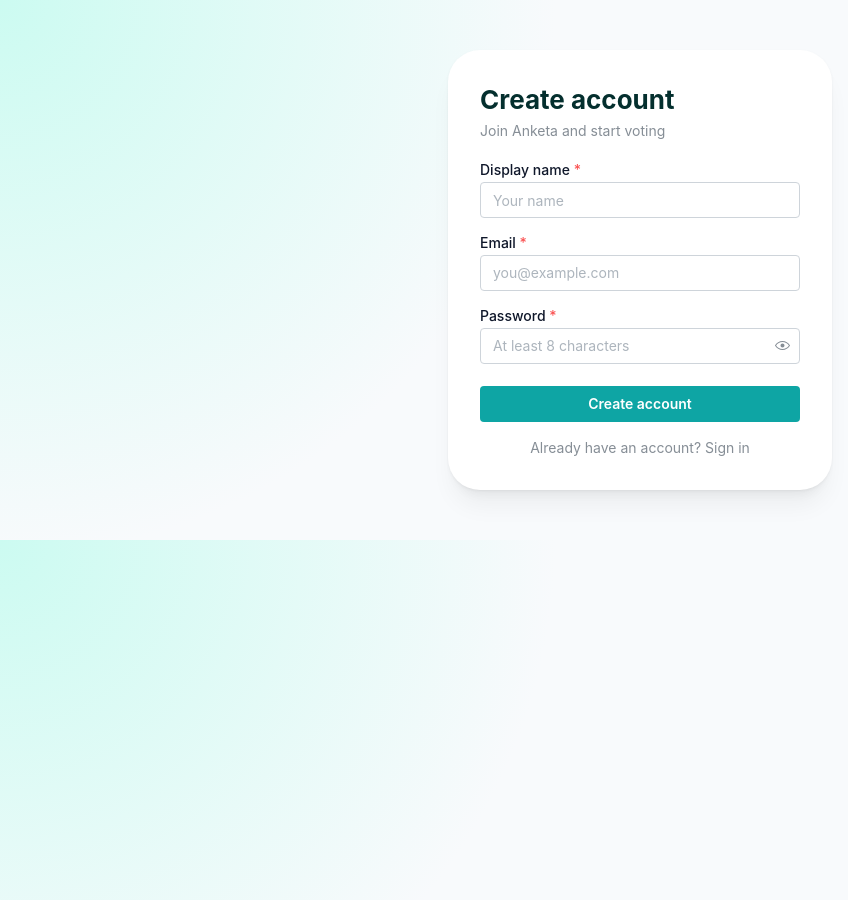
it: RegisterPage › displays the API error message when registration fails
Step 1. Type "Alice" into the field labelled "Display name *" → (640, 200), box [480, 182, 800, 218]
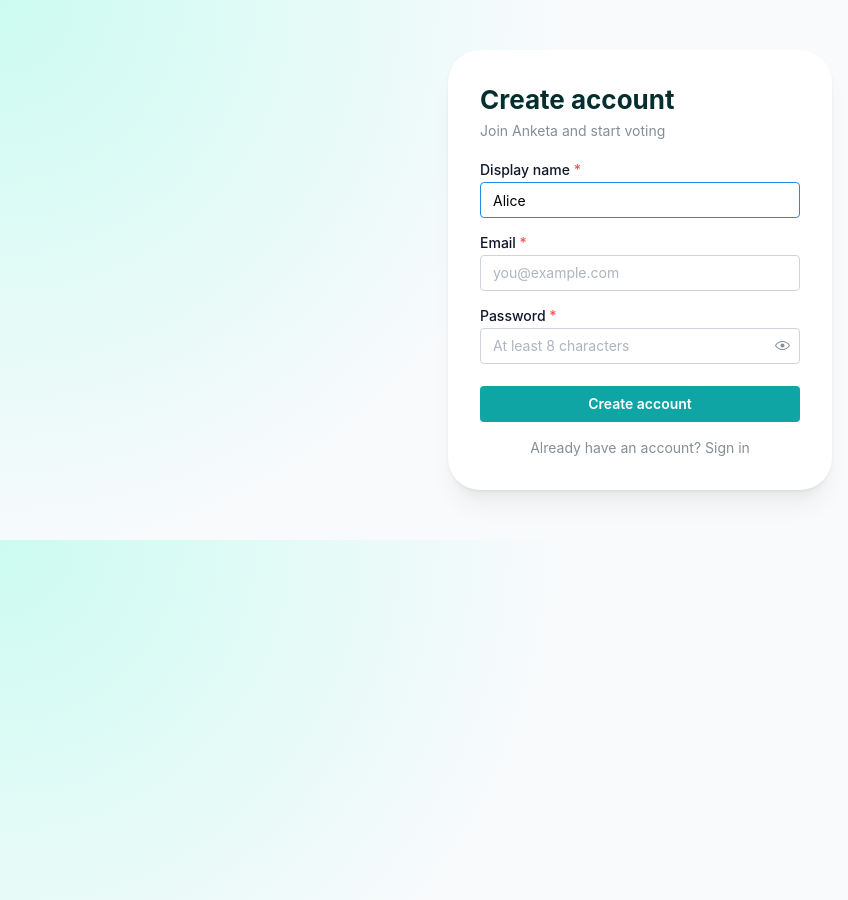
Step 2. Type "existing@example.com" into the field labelled "Email *" → (640, 273), box [480, 255, 800, 291]
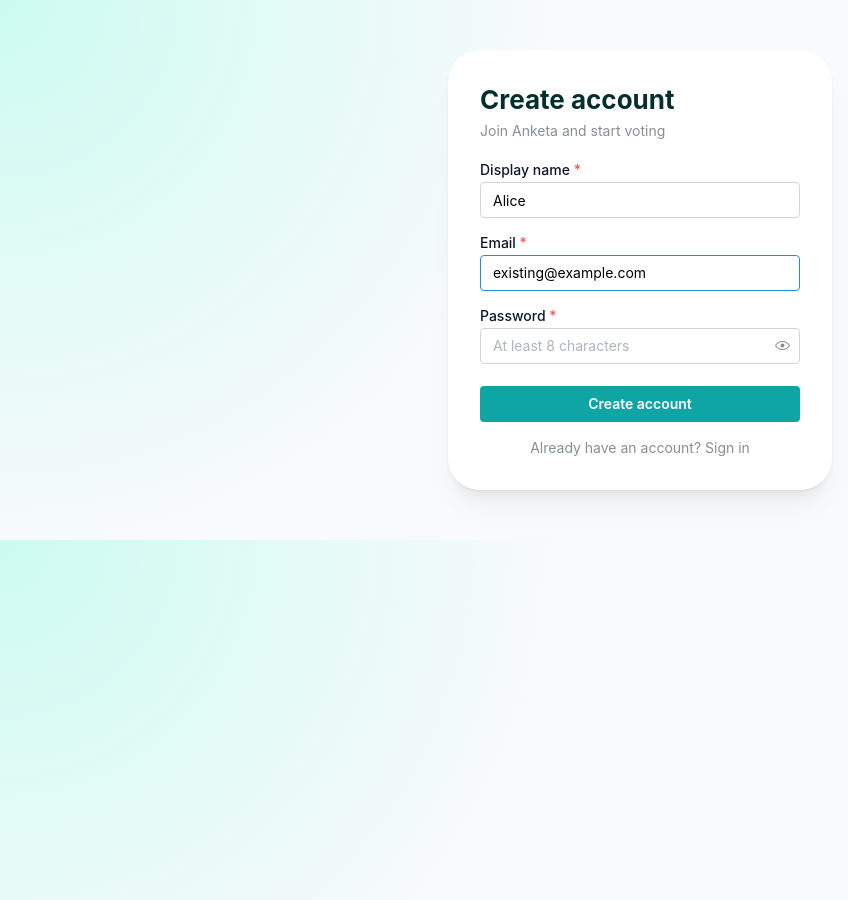
Step 3. Type "password123" into the password field labelled "Password *" → (640, 346), box [481, 329, 799, 363]
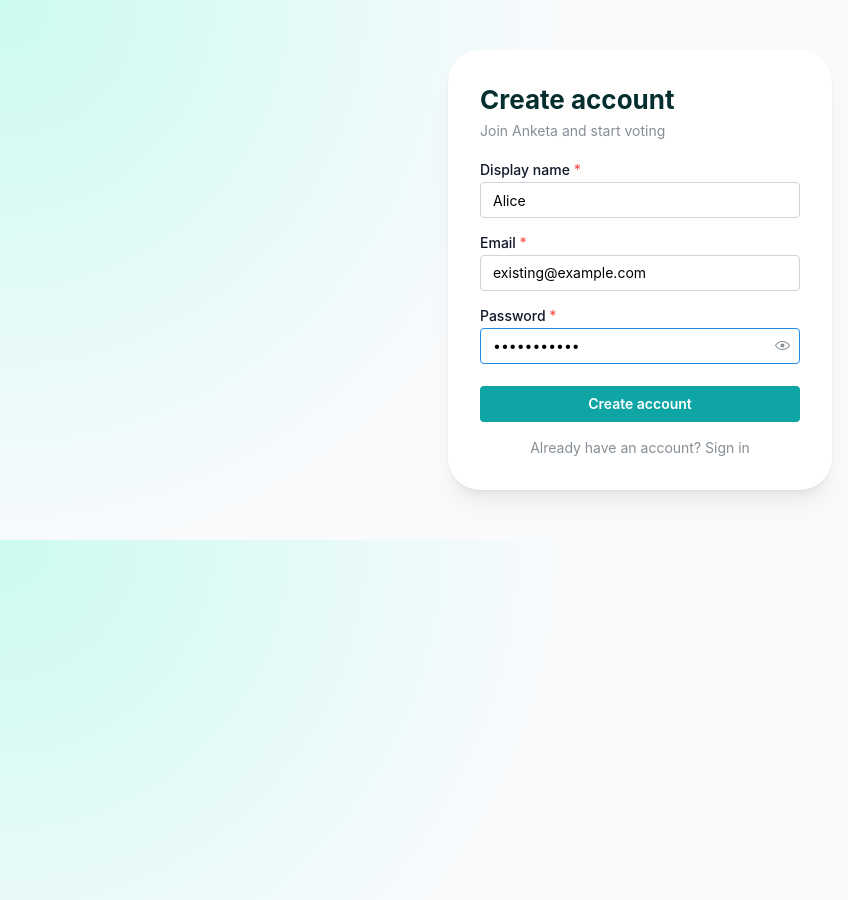
Step 4. Click the button "Create account" → (640, 404), box [480, 386, 800, 422]
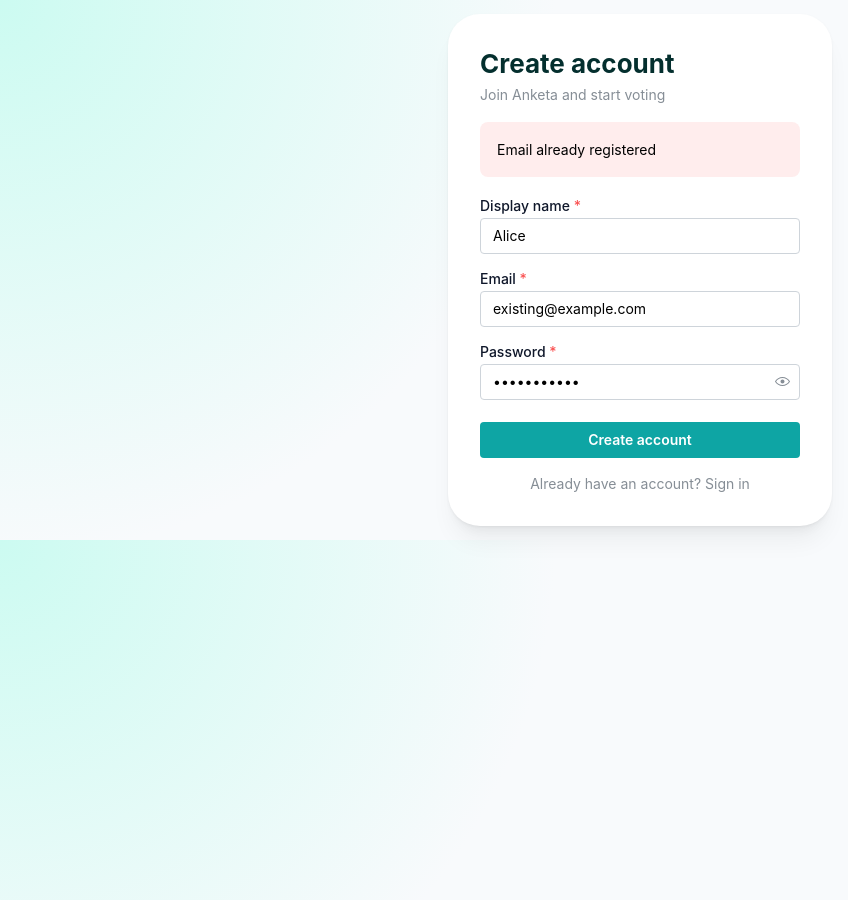
expect the text "Email already registered" is shown: met, box [497, 140, 656, 158]
